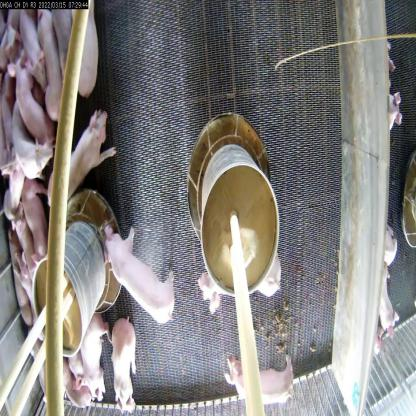Pig: (99, 219, 178, 326), (42, 110, 116, 213), (197, 248, 282, 319), (221, 350, 299, 411), (34, 7, 69, 124), (106, 314, 142, 415), (8, 50, 45, 148), (8, 100, 54, 178), (16, 176, 50, 268), (75, 315, 110, 402), (7, 208, 40, 290), (8, 248, 34, 332)
